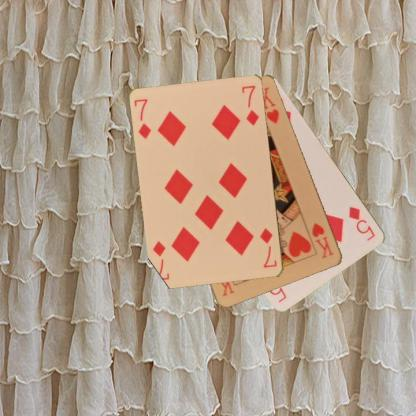5d: (346, 204, 377, 243)
7d: (132, 96, 153, 140), (258, 226, 278, 270)
Kh: (309, 220, 335, 260)
